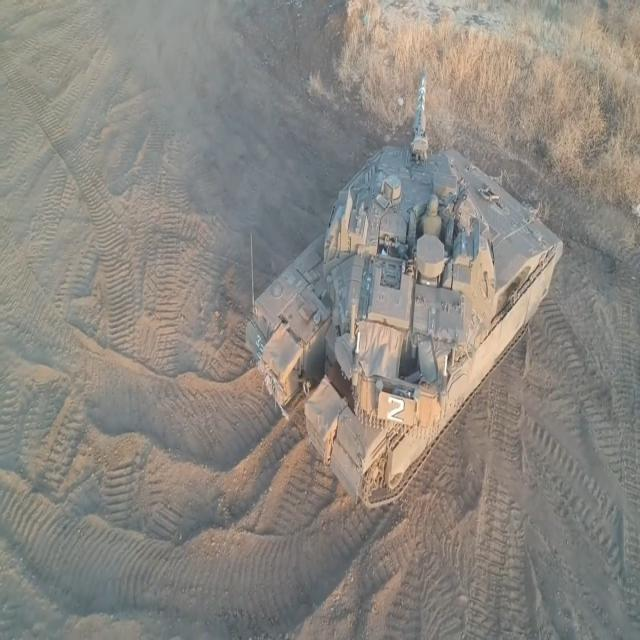tank: (232, 38, 569, 510)
